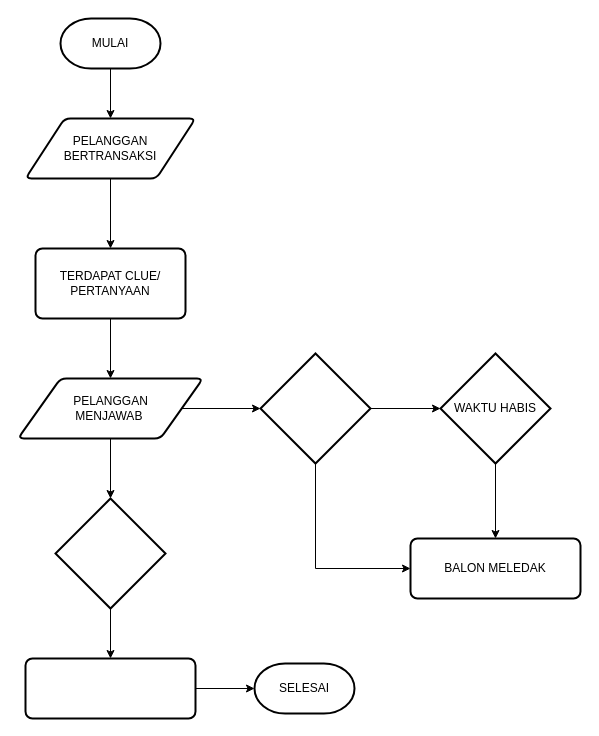
Image size: 599x736. Some labels were removed from this diagram. Each missing label, with the box of its shape:
BALON TIDAK MELEDAK: (24, 657, 196, 719)
JAWABAN BENAR: (54, 497, 166, 609)
JAWABAN SALAH: (259, 352, 371, 464)
